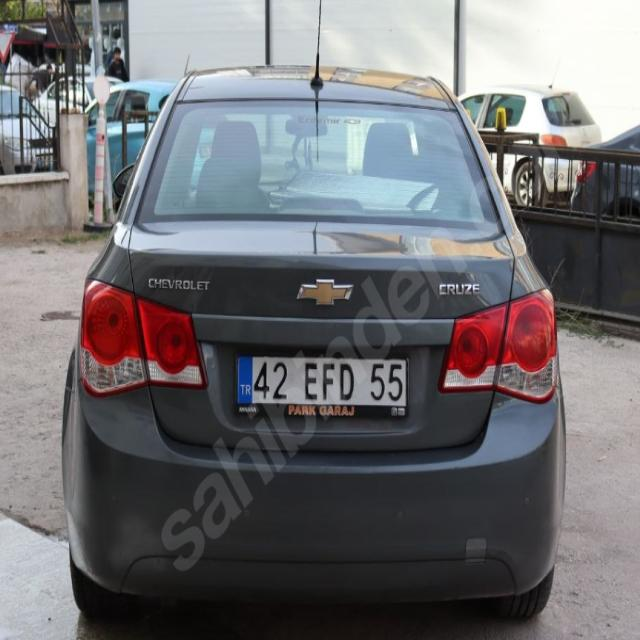chevrolet: (297, 276, 355, 312)
